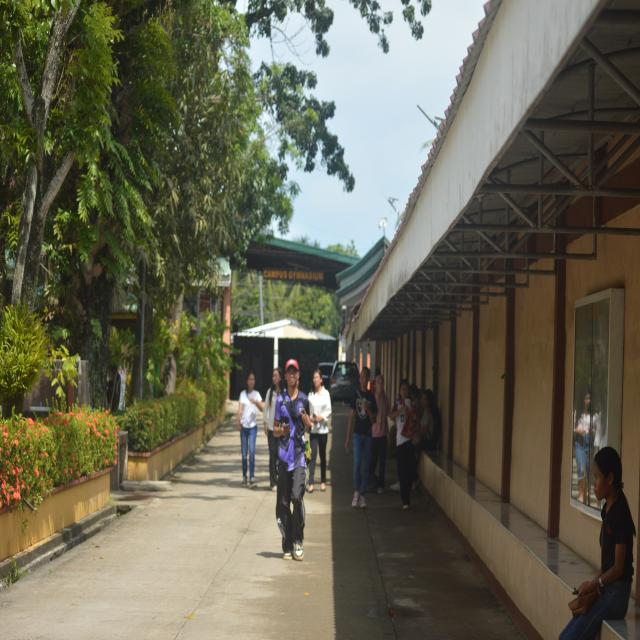person: (560, 447, 635, 639), (274, 359, 311, 560), (345, 368, 377, 508), (390, 380, 414, 509), (237, 372, 263, 487), (308, 370, 331, 492), (369, 375, 389, 493), (264, 368, 283, 491)
